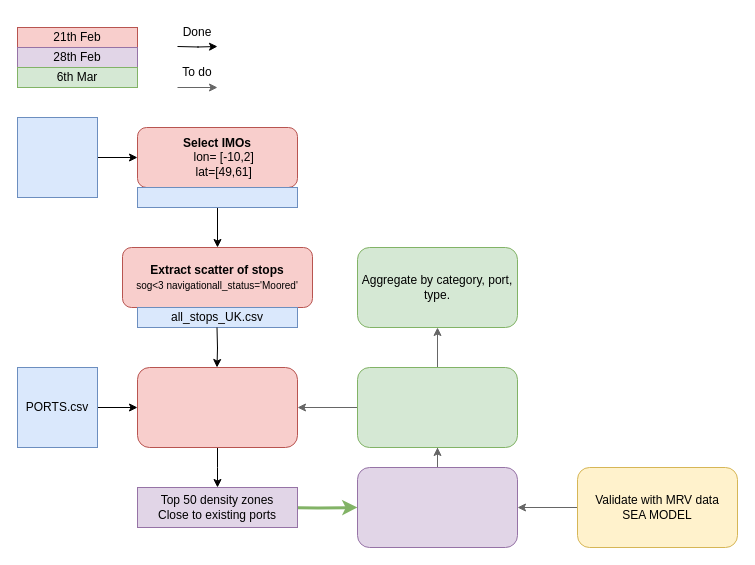
The diagram is 755 pixels wide and 565 high, and some of its shapes have lost their labels. The centre of each missing label's shape, as x and y in pixels:
AIS: the point at 57,157
Clustering of stops: the point at 217,407
Filter on 12nm and 3nm/h: the point at 437,407
imos_UK_port_ranking.csv: the point at 217,197
Run Sea Model (with 0.01% fuel modifiation): the point at 437,507
